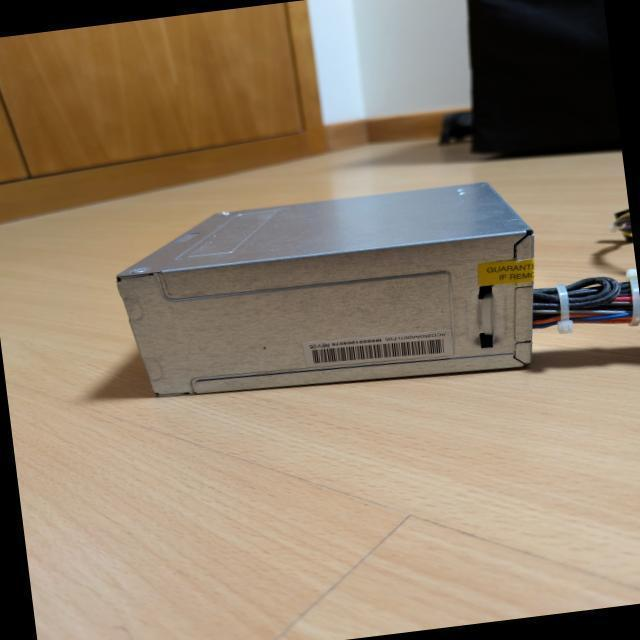PSU: (108, 172, 551, 416)
